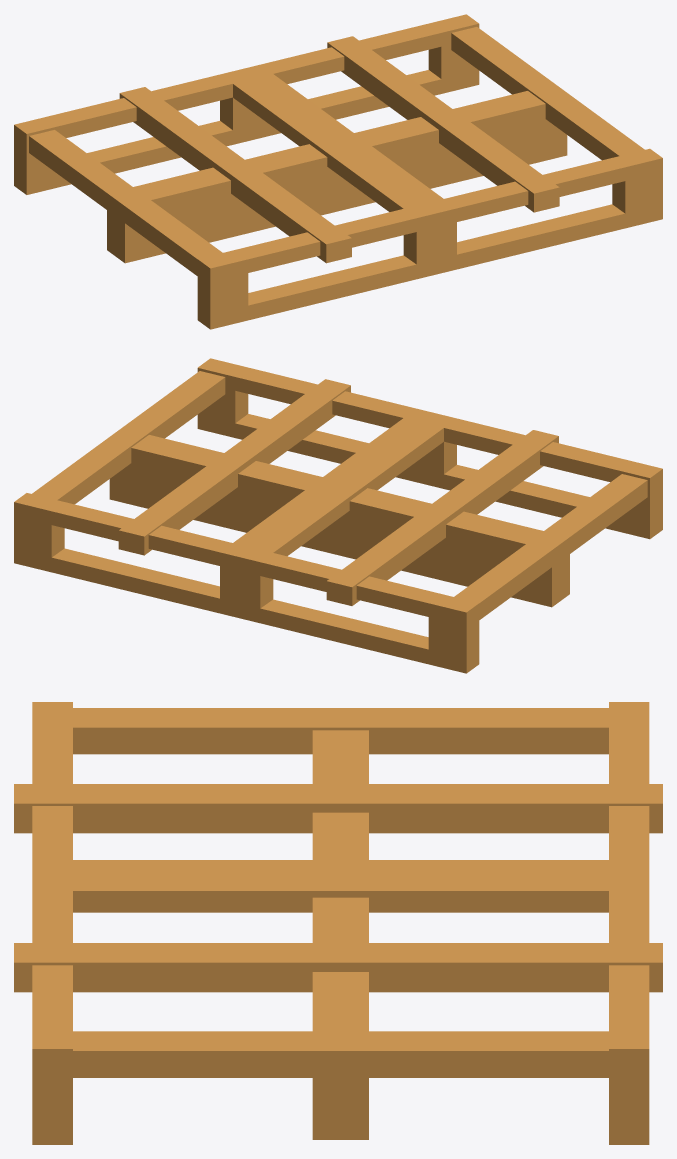
File: crate_base.fbx
3 renders of one model, top to bottom at view 1: azimuth 30°, elevation 25°; view 2: azimuth 150°, elevation 25°; view 3: azimuth 270°, elevation 25°, orthographic. The views are drawn at different scales.
Visible parts, largest first — view 1: polySurface31; view 2: polySurface31; view 3: polySurface31.
Part boxes in pixels (x1=…): polySurface31: x1=14, y1=14, x2=662, y2=329; polySurface31: x1=14, y1=358, x2=662, y2=673; polySurface31: x1=14, y1=702, x2=662, y2=1144.
Size of the model in its own units: 1.41 by 0.1873 by 1.12.
